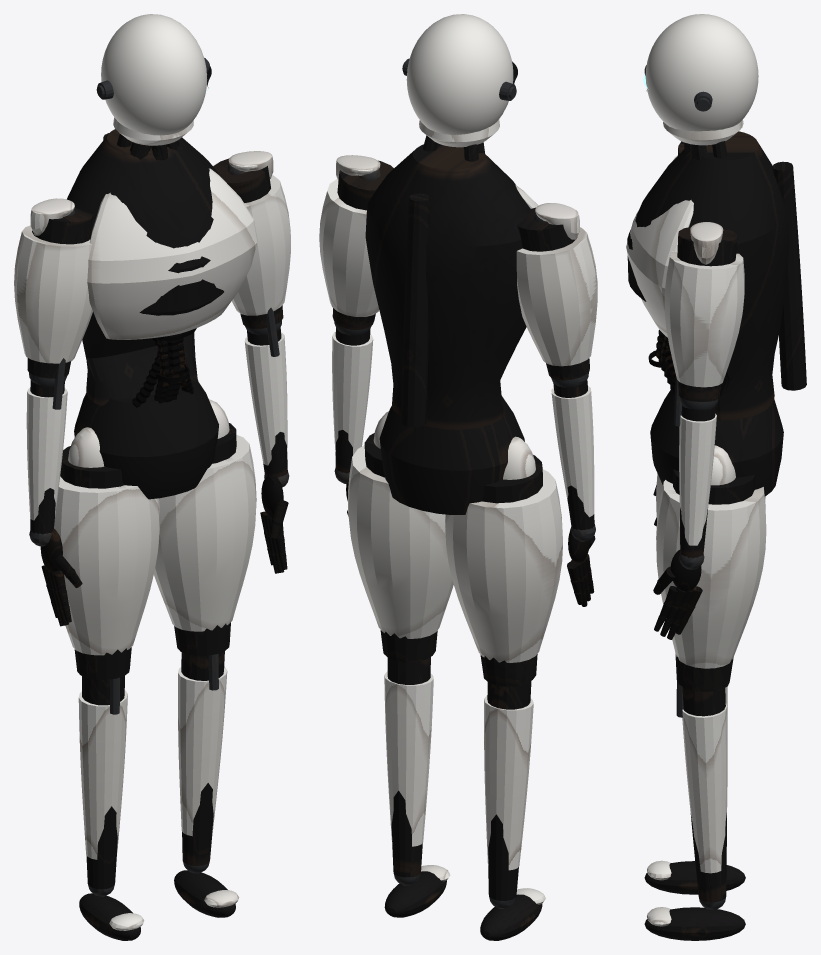
File: robot.glb
3 views of the same model, side by side, from view 1: azimuth 30°, elevation 25°; view 2: azimuth 150°, elevation 25°; view 3: azimuth 270°, elevation 25° (orthographic).
Parts seen in each view (by area): view 1: TorsoCore, ChestPlate, ThighPlate_L, ThighPlate_R, Pelvis, Helmet, UpperArmPlate_L, ShinPlate_R, ShinPlate_L, UpperArmPlate_R, ForeArmPlate_L, ForeArmPlate_R (+17 smaller); view 2: TorsoCore, ThighPlate_L, ThighPlate_R, Helmet, Pelvis, UpperArmPlate_L, ShinPlate_R, ShinPlate_L, Spine, UpperArmPlate_R, ForeArmPlate_L, ForeArmPlate_R (+14 smaller); view 3: TorsoCore, ThighPlate_R, Helmet, UpperArmPlate_R, ShinPlate_R, Pelvis, Spine, ChestPlate, ForeArmPlate_R, Thigh_R, Foot_R, Shin_R (+9 smaller).
Part boxes in pixels (bbox=[...]): TorsoCore: bbox=[67, 129, 223, 405]; ChestPlate: bbox=[87, 168, 257, 339]; ThighPlate_L: bbox=[54, 476, 160, 655]; ThighPlate_R: bbox=[154, 434, 256, 631]; Pelvis: bbox=[74, 377, 218, 499]; Helmet: bbox=[101, 14, 207, 135]; UpperArmPlate_L: bbox=[14, 225, 92, 363]; ShinPlate_R: bbox=[178, 666, 227, 836]; ShinPlate_L: bbox=[78, 690, 127, 859]; UpperArmPlate_R: bbox=[232, 175, 290, 315]; ForeArmPlate_L: bbox=[26, 388, 67, 520]; ForeArmPlate_R: bbox=[244, 332, 287, 465]; TorsoCore: bbox=[365, 144, 530, 429]; ThighPlate_L: bbox=[445, 469, 562, 662]; ThighPlate_R: bbox=[348, 445, 453, 638]; Helmet: bbox=[406, 14, 513, 134]; Pelvis: bbox=[379, 396, 524, 514]; UpperArmPlate_L: bbox=[516, 227, 597, 366]; ShinPlate_R: bbox=[384, 671, 433, 846]; ShinPlate_L: bbox=[484, 695, 533, 870]; Spine: bbox=[401, 193, 429, 427]; UpperArmPlate_R: bbox=[319, 179, 379, 316]; ForeArmPlate_L: bbox=[551, 386, 594, 517]; ForeArmPlate_R: bbox=[332, 331, 373, 454]; TorsoCore: bbox=[627, 131, 789, 420]; ThighPlate_R: bbox=[656, 480, 766, 668]; Helmet: bbox=[645, 14, 758, 131]; UpperArmPlate_R: bbox=[664, 251, 744, 387]; ShinPlate_R: bbox=[682, 703, 727, 873]; Pelvis: bbox=[650, 390, 783, 496]; Spine: bbox=[772, 161, 806, 390]; ChestPlate: bbox=[626, 200, 693, 337]; ForeArmPlate_R: bbox=[679, 413, 716, 545]; Thigh_R: bbox=[673, 469, 755, 691]; Foot_R: bbox=[644, 907, 745, 940]; Shin_R: bbox=[682, 686, 726, 902].
Size of the model in its own units: 0.5345 by 1.72 by 0.314.
Materials: 7 (5 with a texture image).
